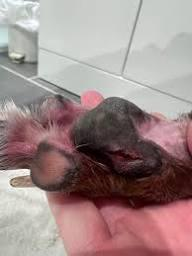cut: (104, 140, 145, 175)
